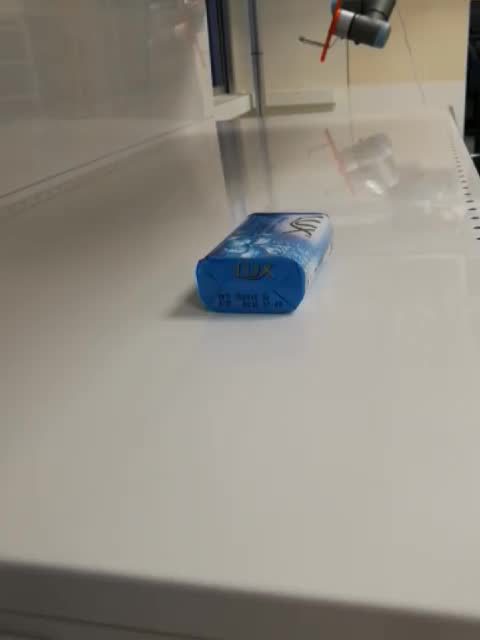soap: (192, 211, 332, 315)
